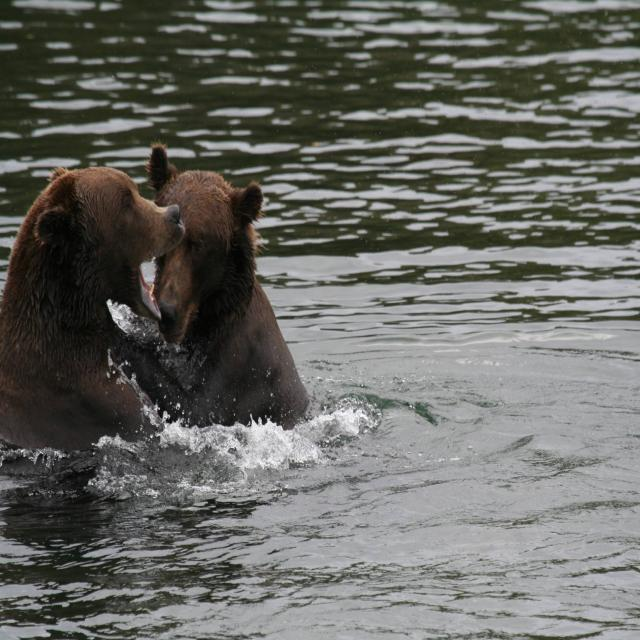bear face: (0, 163, 183, 437), (149, 140, 304, 414)
